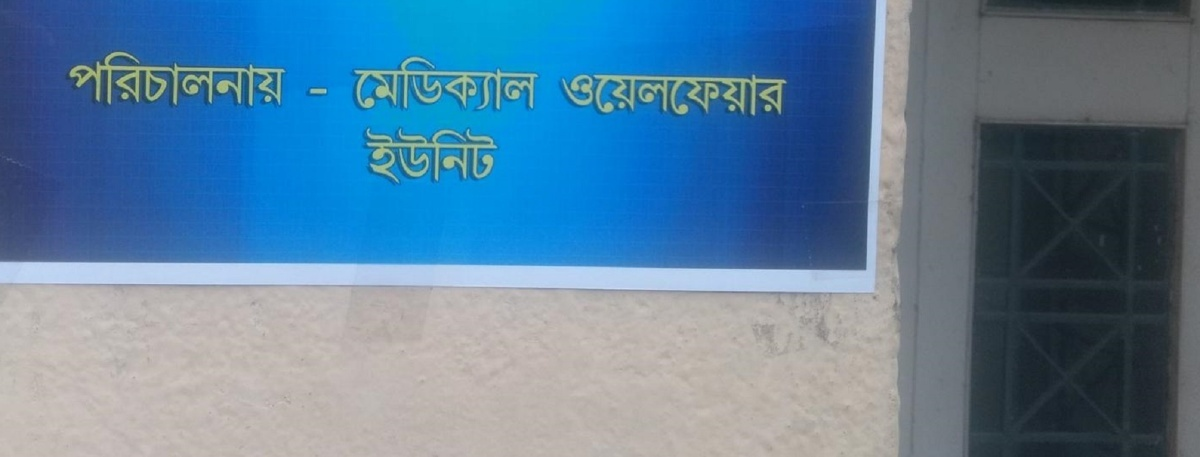text: (529, 54, 545, 114), (369, 124, 384, 188), (385, 124, 400, 188), (401, 124, 416, 188), (417, 124, 432, 188), (433, 124, 448, 188), (449, 124, 464, 188), (465, 124, 480, 188), (481, 124, 496, 188), (273, 47, 289, 106), (353, 54, 368, 114), (369, 54, 384, 114), (385, 54, 400, 114), (401, 54, 416, 114), (417, 54, 432, 114), (433, 54, 448, 114), (449, 54, 464, 114), (465, 54, 480, 114), (481, 54, 496, 114), (497, 54, 512, 114), (513, 54, 528, 114), (65, 47, 80, 106), (81, 47, 96, 106), (97, 47, 112, 106), (113, 47, 128, 106), (129, 47, 144, 106), (145, 47, 160, 106), (161, 47, 176, 106), (177, 47, 192, 106), (193, 47, 208, 106), (209, 47, 224, 106), (225, 47, 240, 106), (241, 47, 256, 106), (257, 47, 272, 106), (561, 69, 576, 122), (577, 69, 592, 122), (593, 69, 608, 122), (609, 69, 624, 122), (625, 69, 640, 122), (641, 69, 656, 122), (657, 69, 672, 122), (673, 69, 688, 122), (689, 69, 704, 122), (705, 69, 720, 122), (721, 69, 736, 122), (737, 69, 752, 122), (753, 69, 768, 122), (769, 69, 784, 122), (359, 124, 368, 188), (497, 124, 506, 188), (785, 69, 791, 122), (556, 69, 560, 122), (350, 54, 352, 114), (309, 86, 320, 95), (321, 86, 329, 95), (63, 47, 64, 106)
